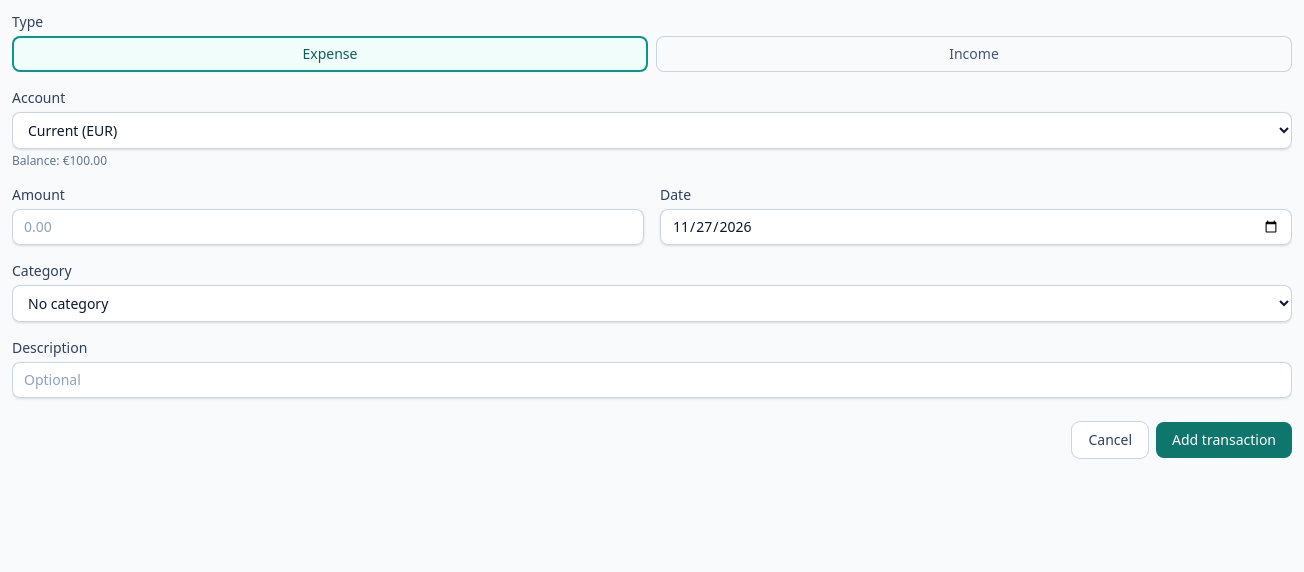
Test: TransactionForm › asks for a name when "new category" is chosen but left empty
Type "20" into the field labelled "Amount" at [328, 227], box [12,209,644,245]
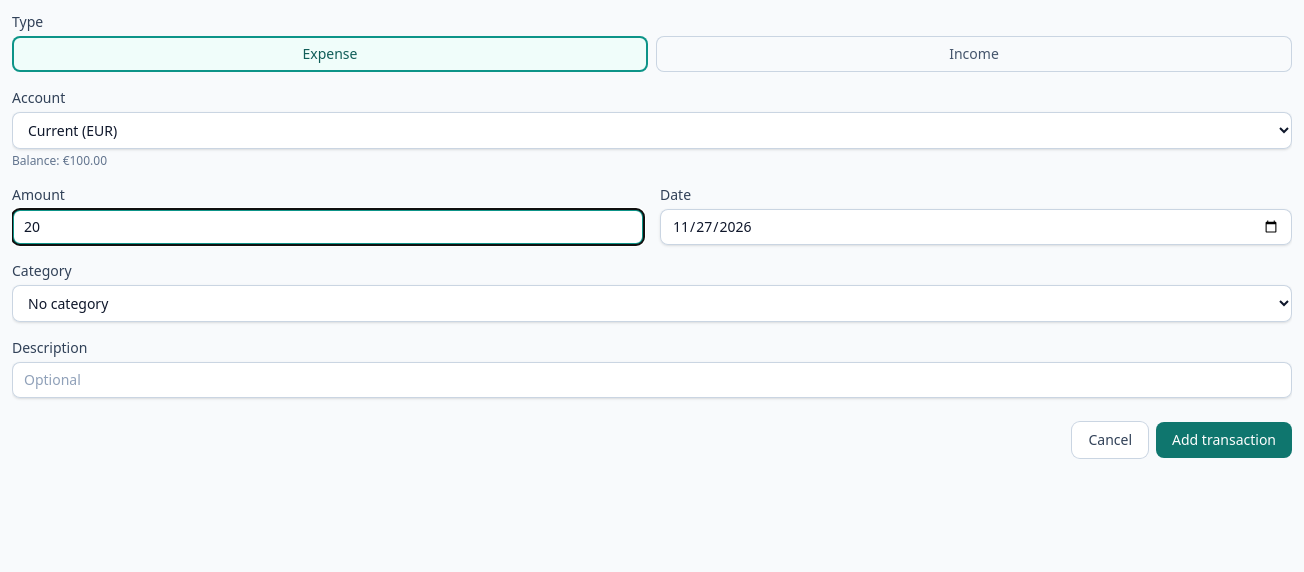
Select "+ New category…" in the dropdown labelled "Category" at [652, 304], box [12,285,1292,322]
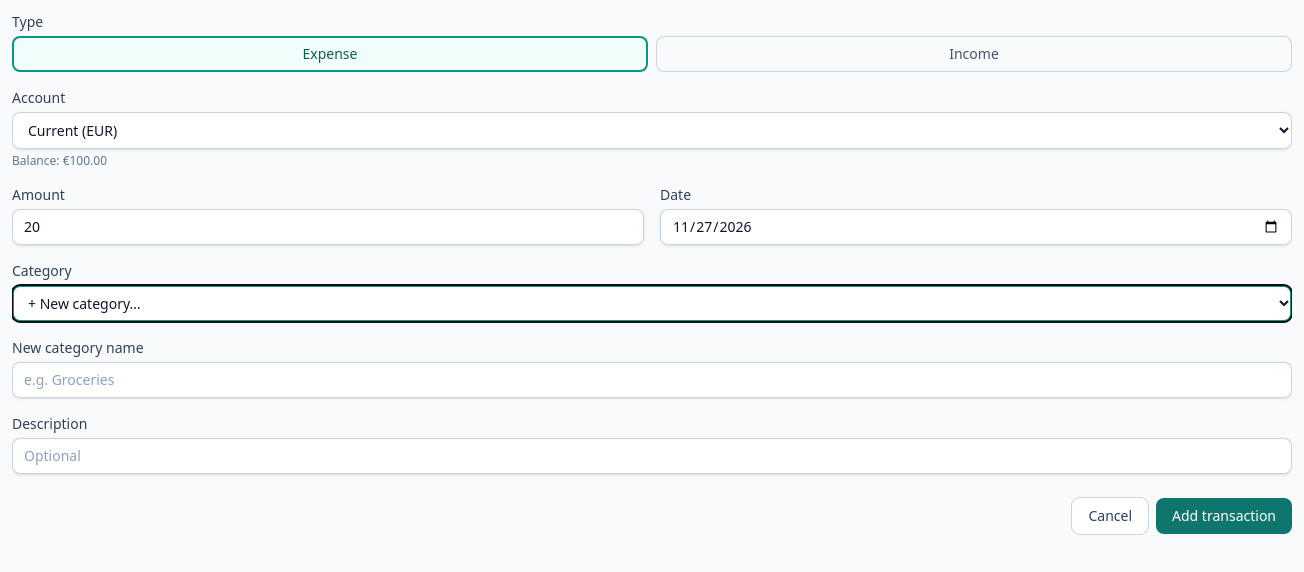
Click the button "Add transaction" at [1224, 516], box [1156,498,1292,534]
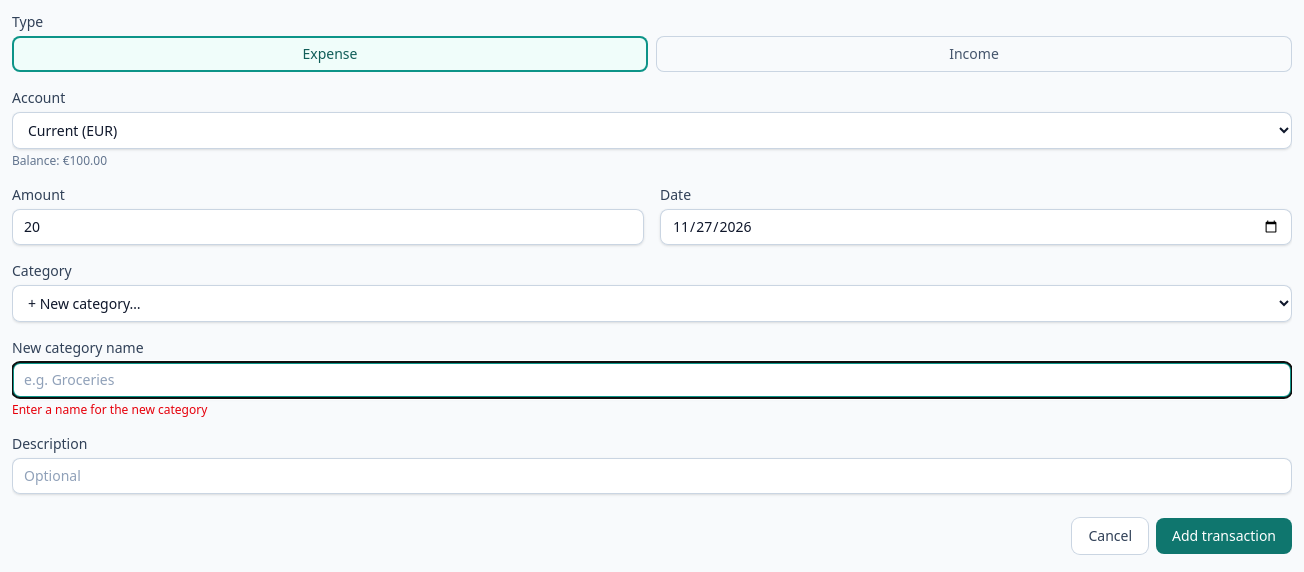
Expected: the text "Enter a name for the new category" is shown, [12,401,207,418]
